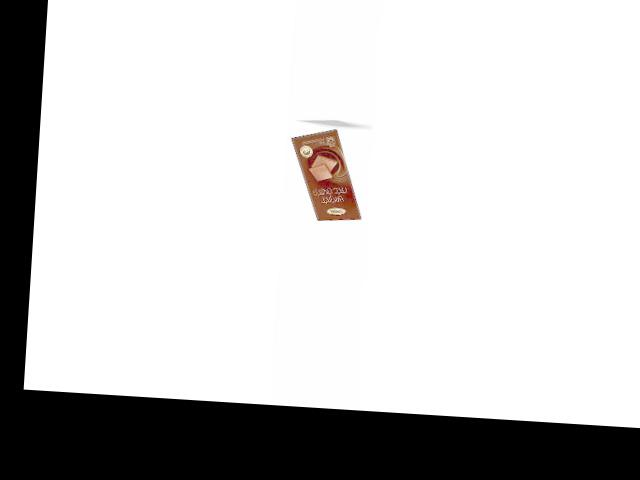chocolate: (283, 122, 368, 224)
